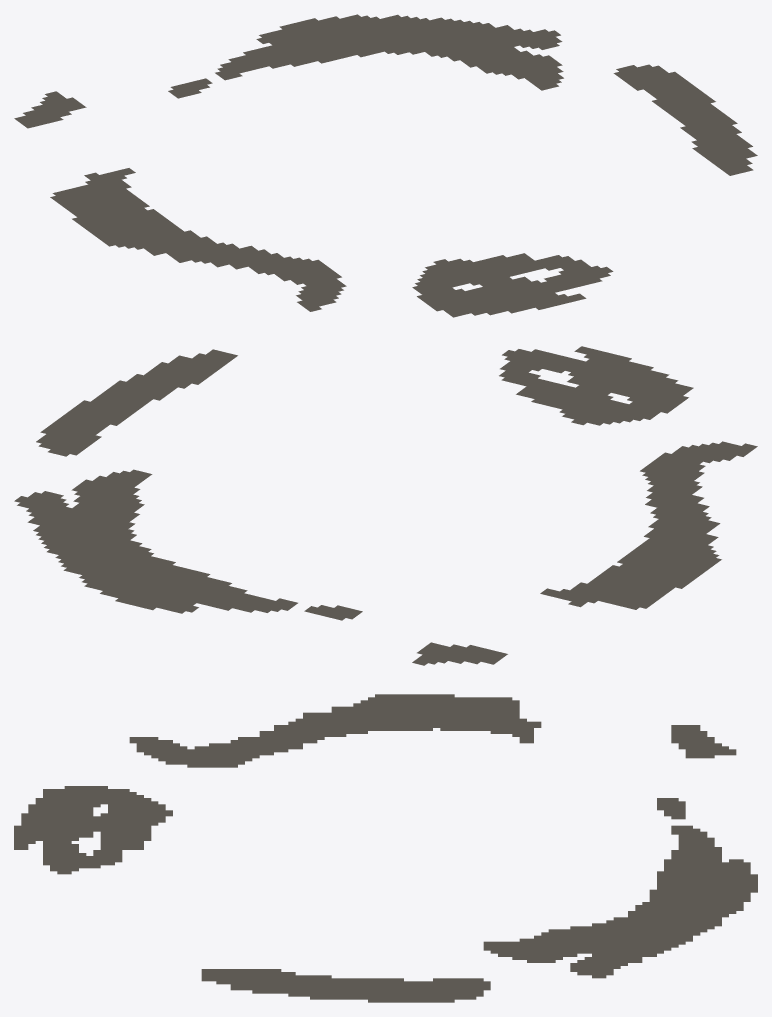
File: Isl-atoll6-NoBuildArea.fbx
3 views of the same model, one above another, from view 1: azimuth 30°, elevation 25°; view 2: azimuth 150°, elevation 25°; view 3: azimuth 270°, elevation 25° (orthographic). The views are drawn at different scales.
Visible parts, largest first — view 1: Isl-atoll6-NoBuildArea; view 2: Isl-atoll6-NoBuildArea; view 3: Isl-atoll6-NoBuildArea.
Boxes of the visible parts, x1,y1,x2,y2 form: Isl-atoll6-NoBuildArea: (14, 14, 757, 317); Isl-atoll6-NoBuildArea: (14, 346, 757, 665); Isl-atoll6-NoBuildArea: (14, 694, 757, 1002).
Size of the model in its own units: 101 by 0 by 103.
